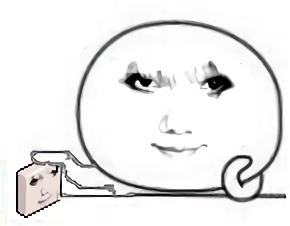dragon: (119, 64, 238, 158)
